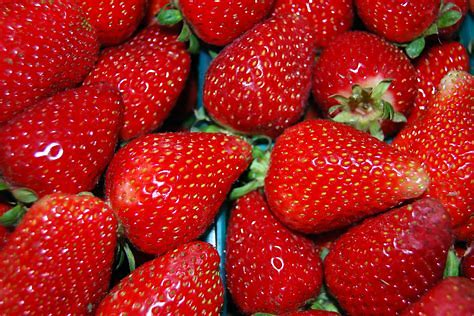strawberry: (105, 126, 259, 258), (265, 118, 431, 235), (1, 185, 116, 316), (199, 13, 315, 140), (328, 197, 451, 316), (2, 84, 128, 199), (78, 20, 196, 139), (227, 186, 329, 314), (311, 27, 417, 137), (1, 1, 84, 116), (100, 244, 223, 316)
